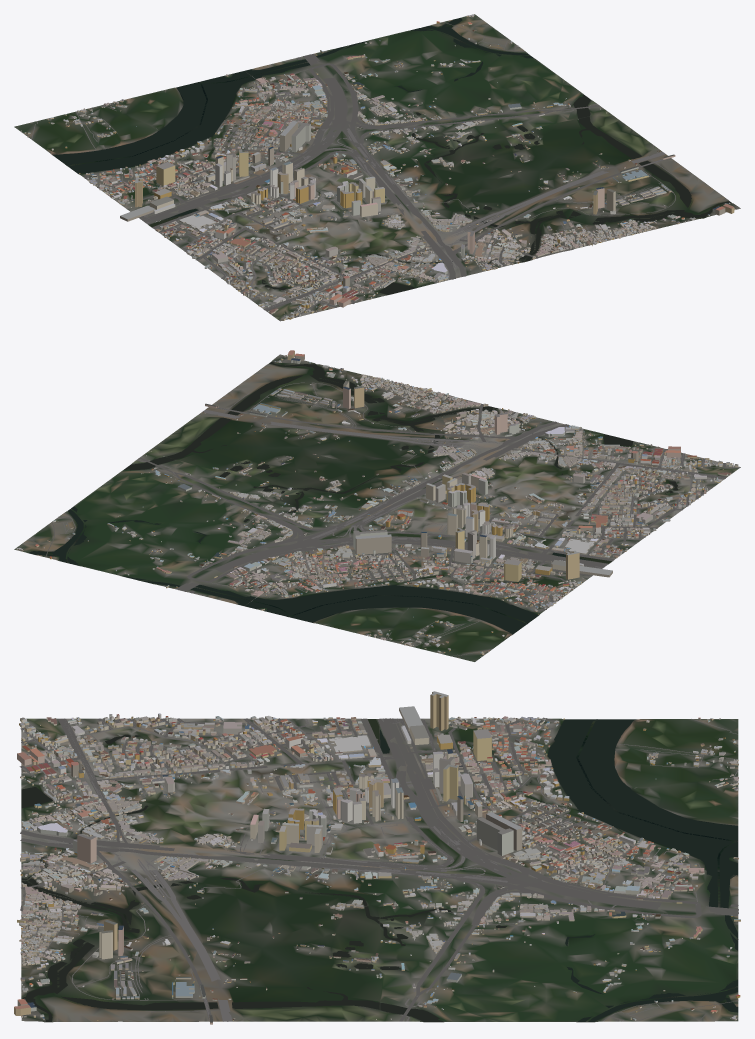
The picture shows the model from 3 angles, top to bottom: view 1: azimuth 30°, elevation 25°; view 2: azimuth 150°, elevation 25°; view 3: azimuth 270°, elevation 25°; orthographic projection. The views are drawn at different scales.
Visible parts, largest first — view 1: ground, buildings, roads, water; view 2: ground, buildings, roads, water; view 3: ground, buildings, roads, water.
Part boxes in pixels (bbox=[...]): ground: bbox=[14, 14, 740, 321]; buildings: bbox=[20, 14, 735, 320]; roads: bbox=[31, 22, 726, 320]; water: bbox=[52, 17, 731, 294]; ground: bbox=[14, 354, 740, 661]; buildings: bbox=[16, 350, 738, 656]; roads: bbox=[28, 365, 740, 656]; water: bbox=[28, 362, 677, 634]; ground: bbox=[21, 718, 738, 1022]; buildings: bbox=[14, 691, 740, 1024]; roads: bbox=[19, 718, 738, 1021]; water: bbox=[21, 719, 738, 1021].
Size of the model in its own units: 2914 by 148 by 2840.
